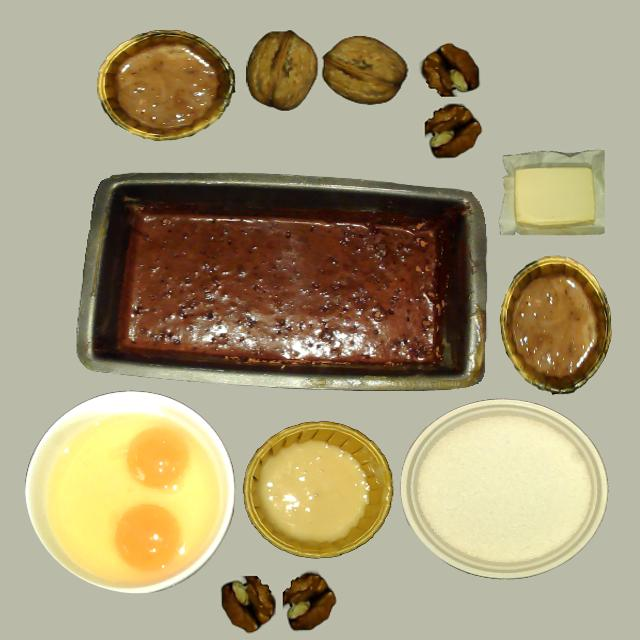Egg: (100, 464, 219, 609), (114, 405, 219, 501)
Sugar: (406, 393, 618, 580)
Walnut: (329, 27, 419, 124), (245, 26, 325, 131)
